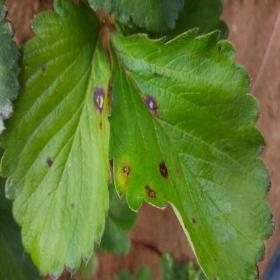Leaf Spot: (107, 27, 277, 279), (0, 0, 112, 279)
